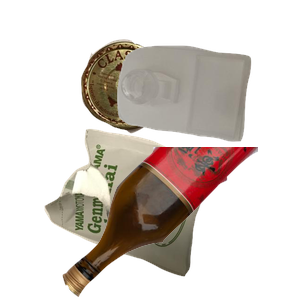glass: (60, 147, 300, 300)
metal: (78, 37, 243, 163)
plastic: (115, 43, 300, 177)
trash: (42, 126, 249, 300)
